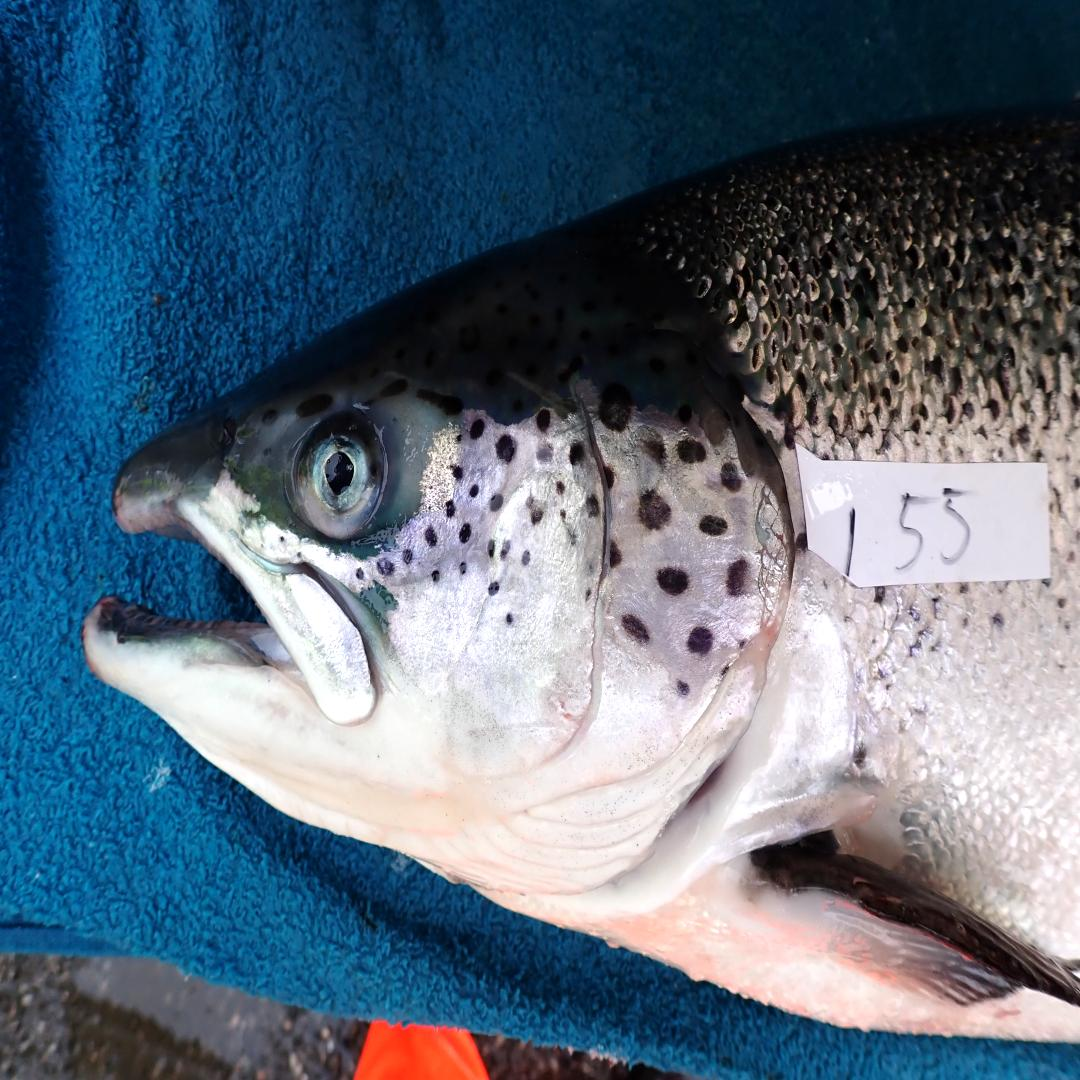roi: (375, 389, 791, 912)
